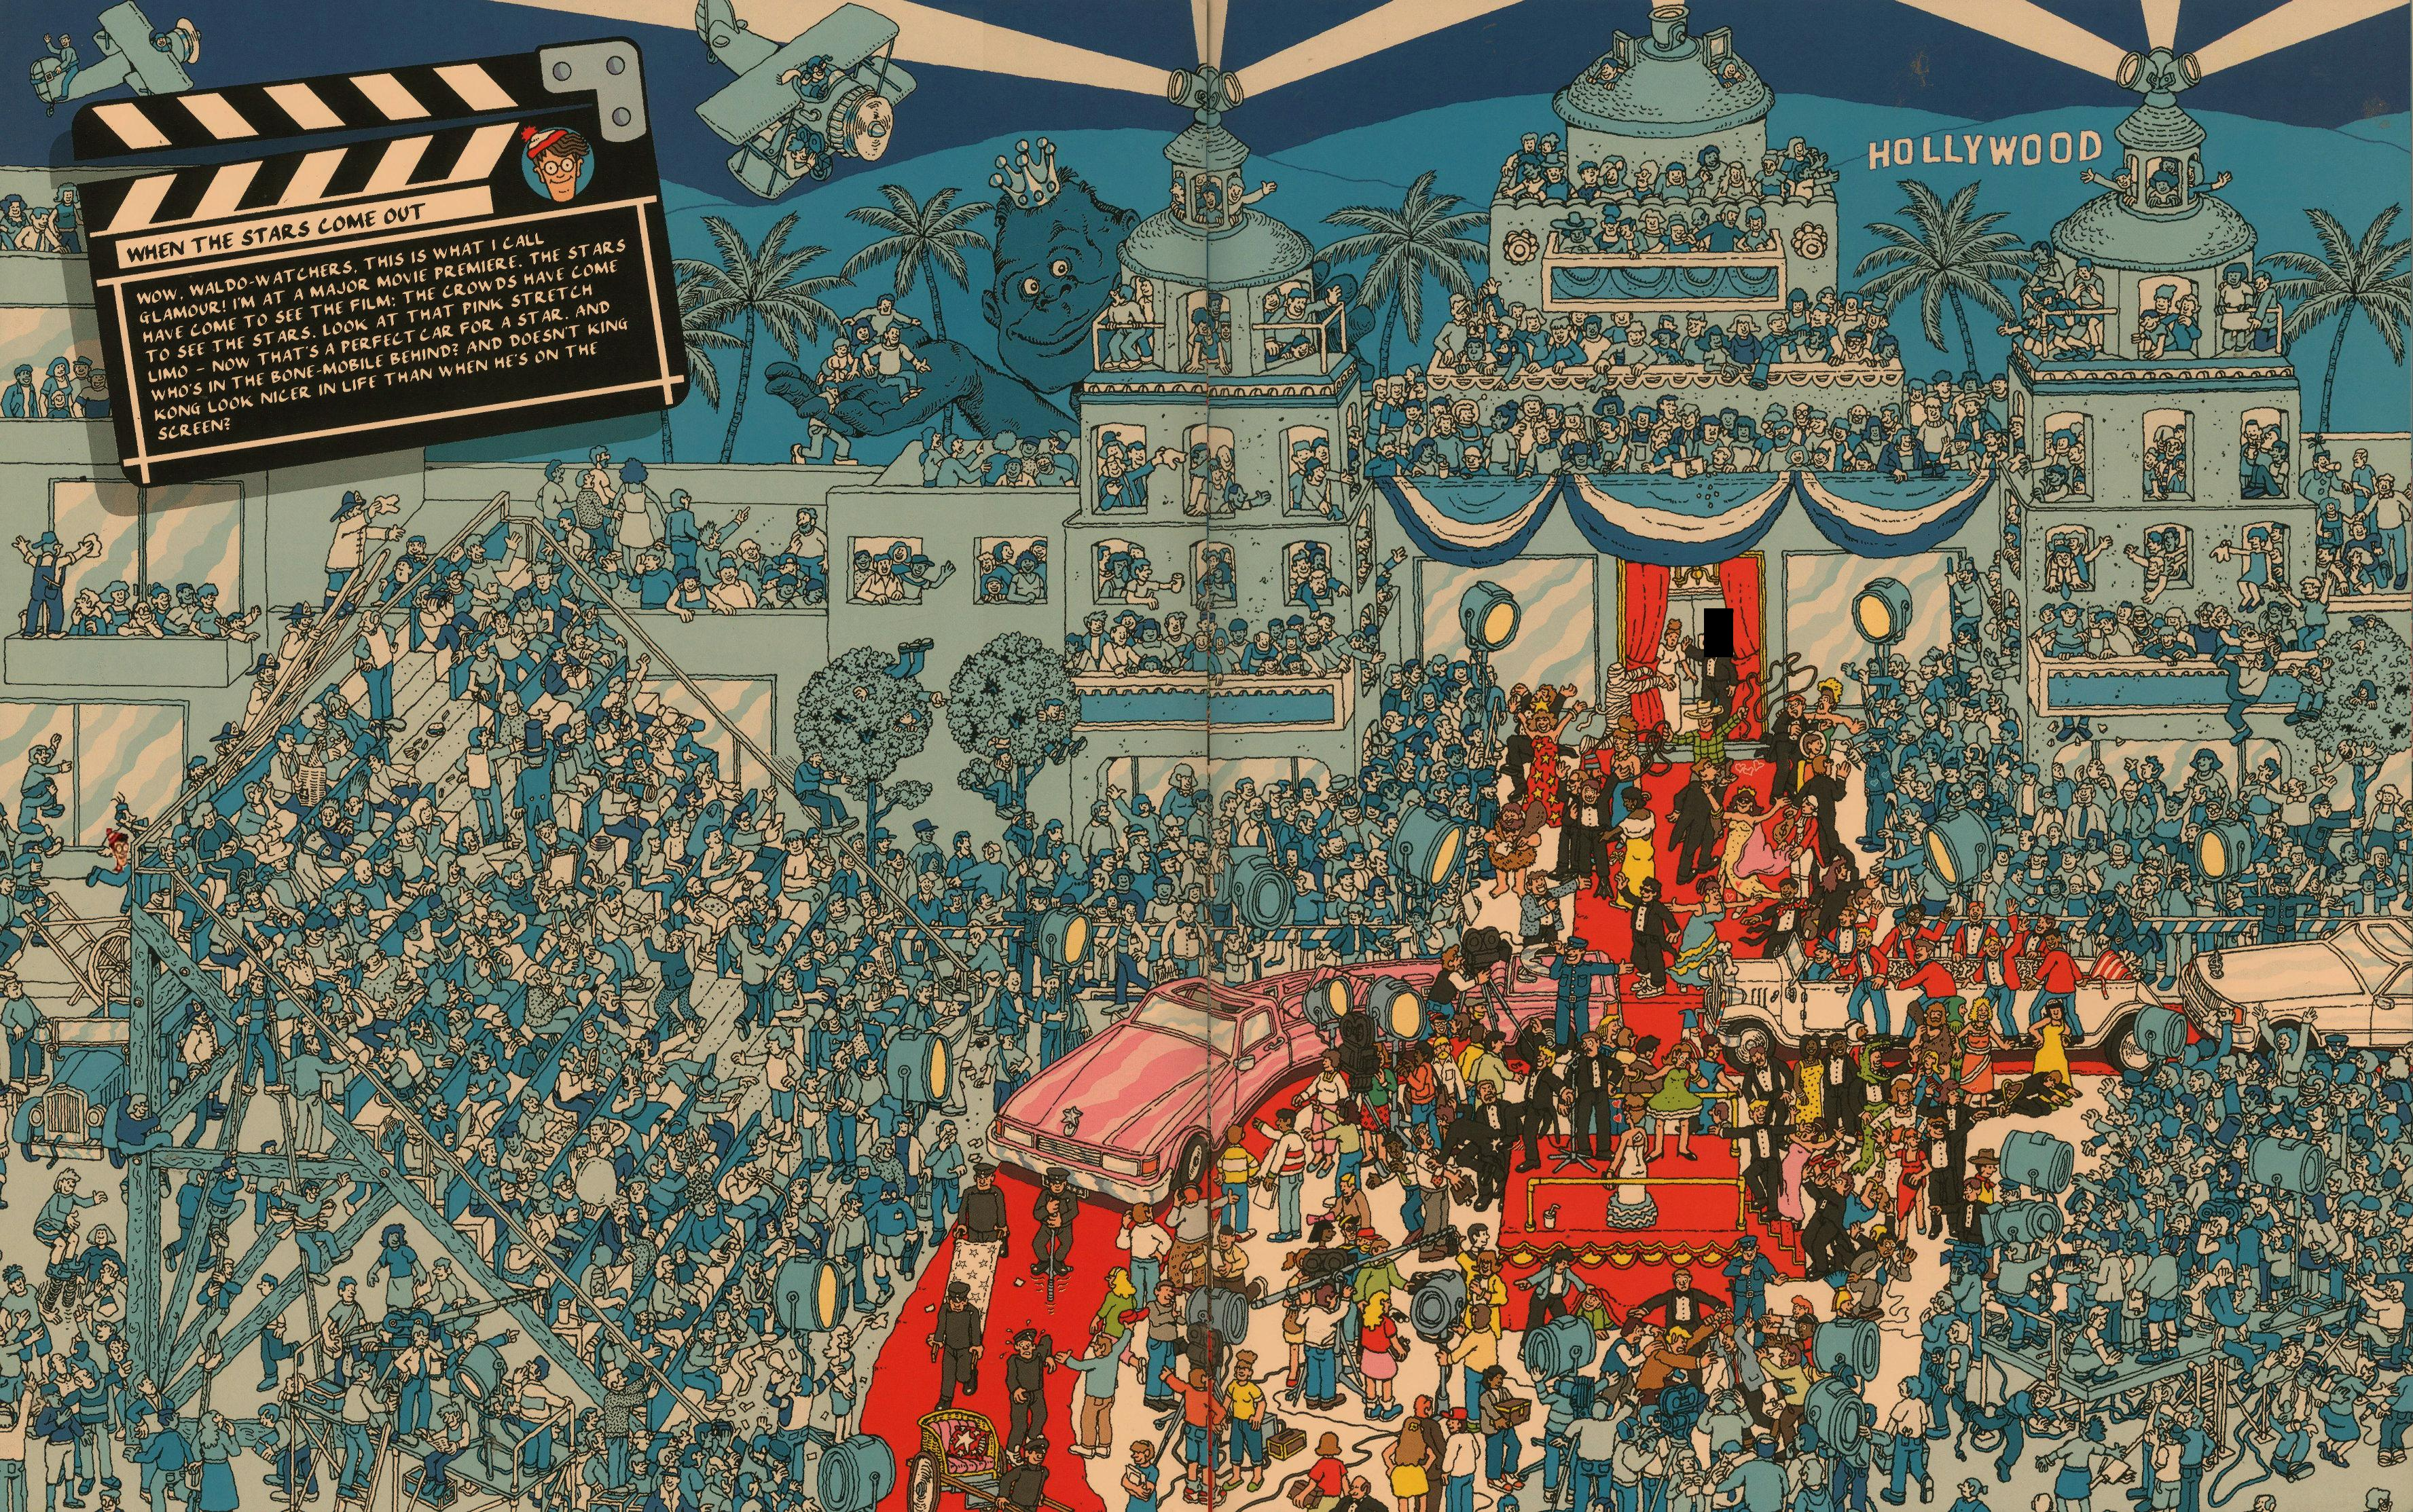waldos: (105, 829, 134, 878)
